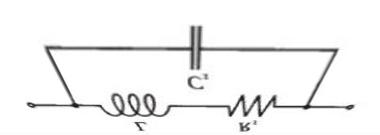inductor: (89, 88, 176, 116)
